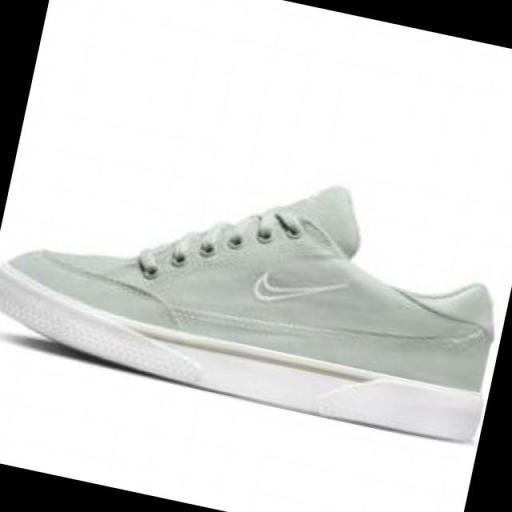Nike: (246, 254, 357, 322)
